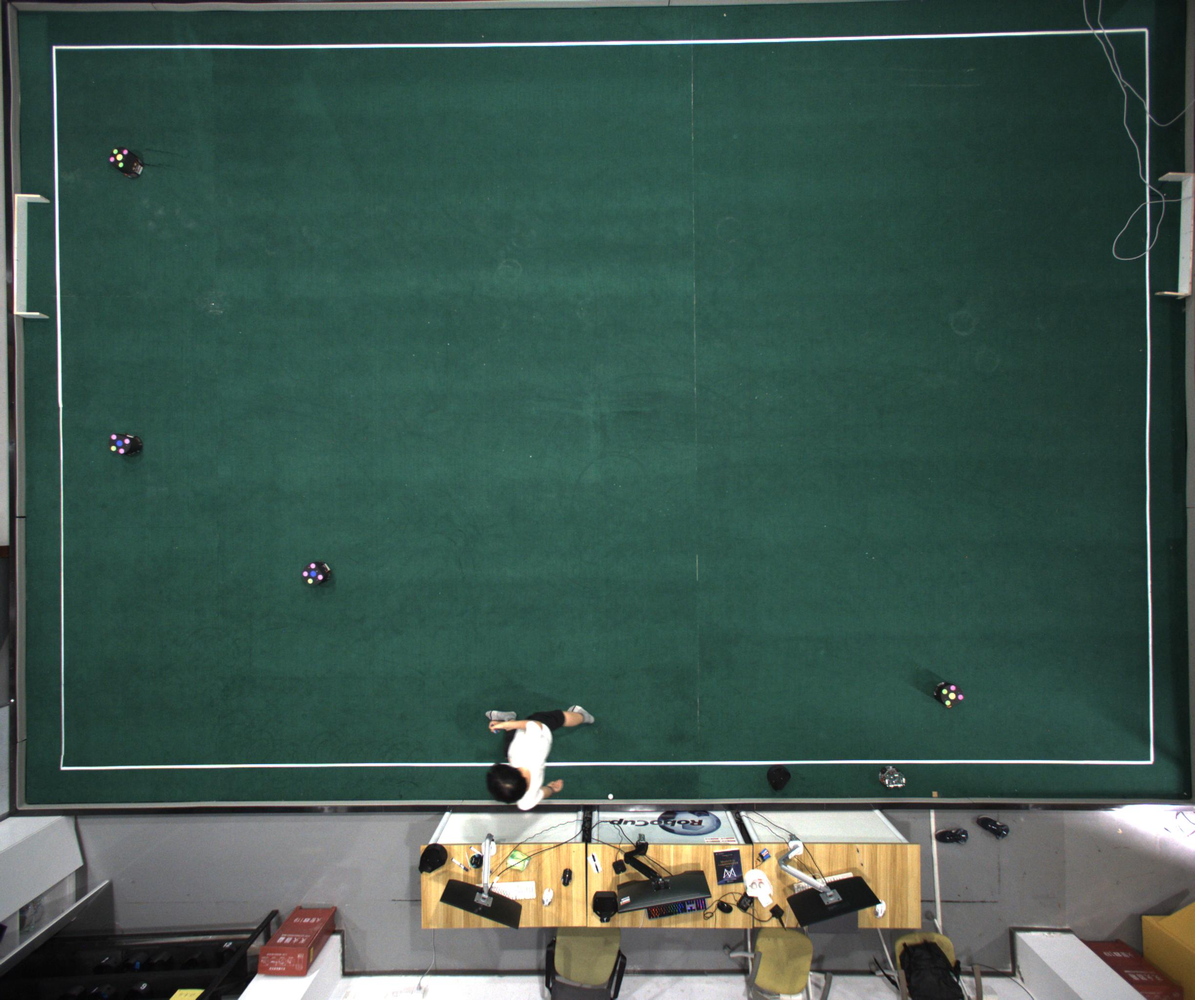blue_bot: (109, 433, 132, 455), (303, 563, 324, 586)
yellow_bot: (940, 685, 965, 707), (109, 147, 130, 169)
